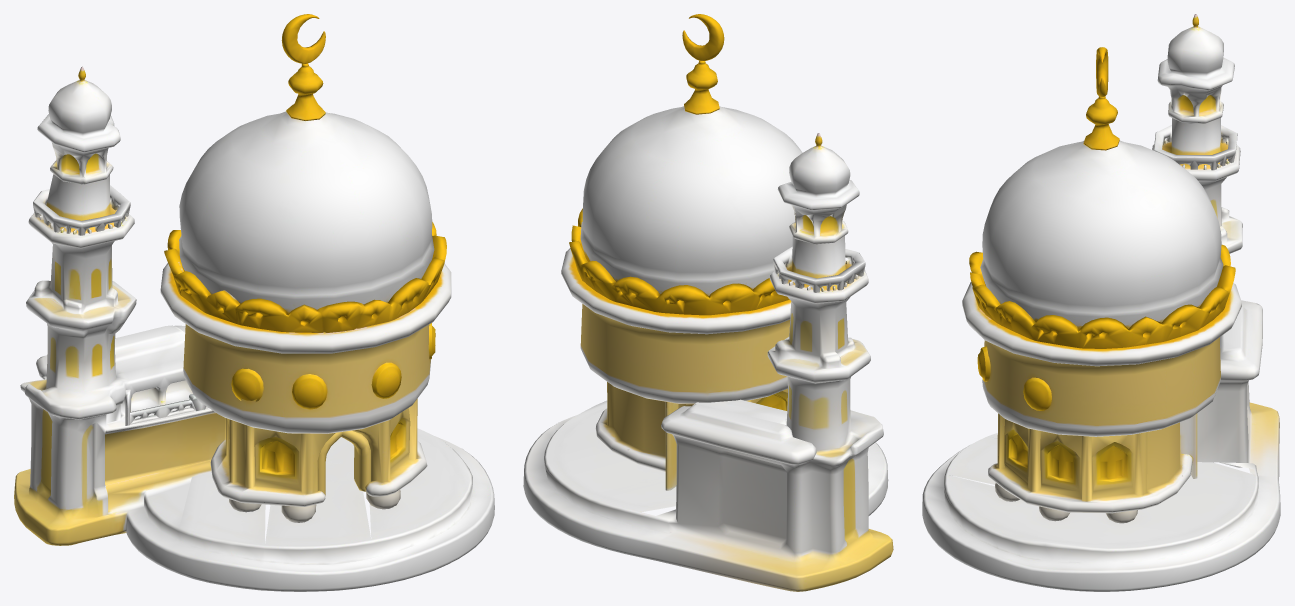
Rendered from brunei-envi-1.glb.
3 renders of one model, left to right at view 1: azimuth 30°, elevation 25°; view 2: azimuth 150°, elevation 25°; view 3: azimuth 270°, elevation 25°, orthographic. The views are drawn at different scales.
Visible parts, largest first — view 1: tripo_8b4026e1_ff3d_4bc2_9dd3_760146d1a400; view 2: tripo_8b4026e1_ff3d_4bc2_9dd3_760146d1a400; view 3: tripo_8b4026e1_ff3d_4bc2_9dd3_760146d1a400.
Boxes of the visible parts, x1=… form: tripo_8b4026e1_ff3d_4bc2_9dd3_760146d1a400: x1=14, y1=14, x2=494, y2=591; tripo_8b4026e1_ff3d_4bc2_9dd3_760146d1a400: x1=523, y1=14, x2=893, y2=591; tripo_8b4026e1_ff3d_4bc2_9dd3_760146d1a400: x1=922, y1=14, x2=1280, y2=591.
Size of the model in its own units: 0.8257 by 0.9995 by 0.6929.
1 material, 1 textured.
